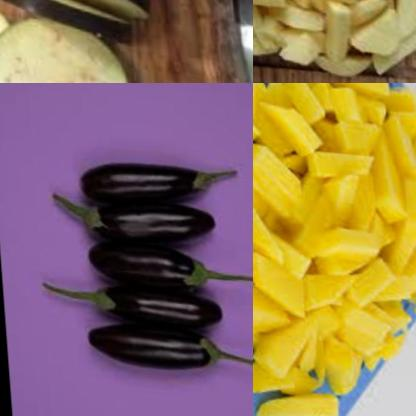eggplant: (69, 137, 234, 213), (0, 11, 164, 83), (0, 0, 201, 57), (69, 322, 238, 386), (81, 226, 235, 296), (67, 267, 234, 327), (63, 181, 224, 243)
potato: (253, 83, 416, 416), (253, 0, 416, 80)
